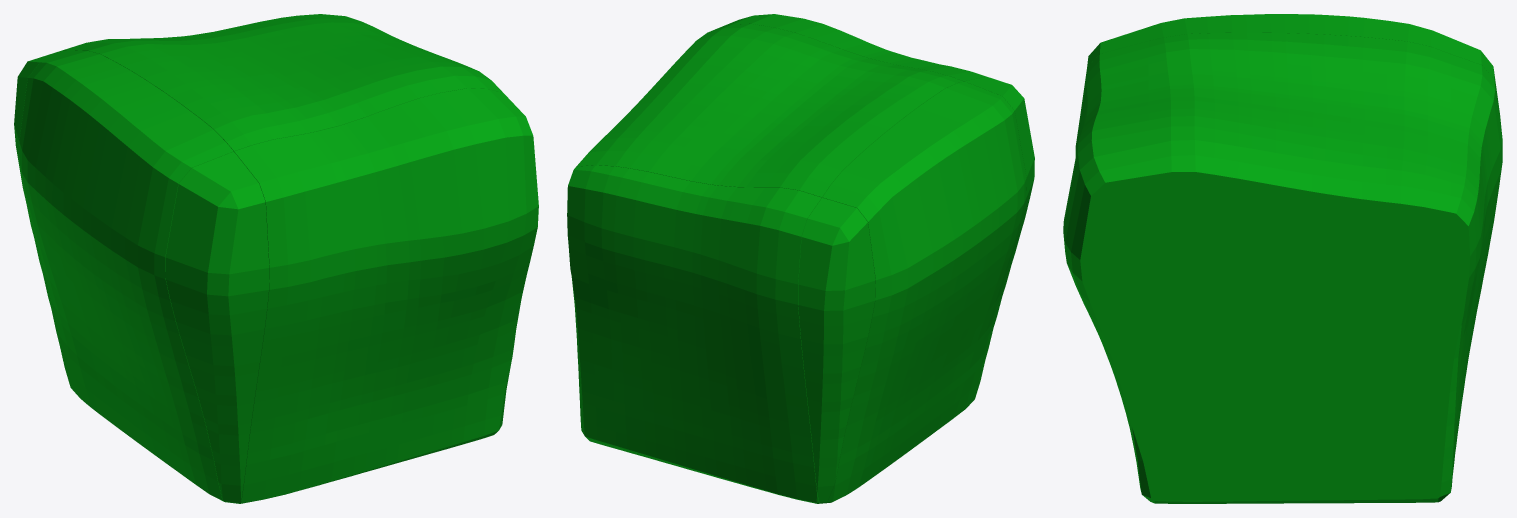
File: 4by10beveledsubdivided.036.fbx
3 renders of one model, left to right at view 1: azimuth 30°, elevation 25°; view 2: azimuth 150°, elevation 25°; view 3: azimuth 270°, elevation 25°, orthographic. The views are drawn at different scales.
Visible parts, largest first — view 1: 4by10beveledsubdivided.036; view 2: 4by10beveledsubdivided.036; view 3: 4by10beveledsubdivided.036.
Part boxes in pixels (bbox=[...]): 4by10beveledsubdivided.036: bbox=[14, 14, 538, 503]; 4by10beveledsubdivided.036: bbox=[567, 14, 1034, 503]; 4by10beveledsubdivided.036: bbox=[1063, 14, 1502, 503].
Size of the model in its own units: 260 by 256 by 291.
